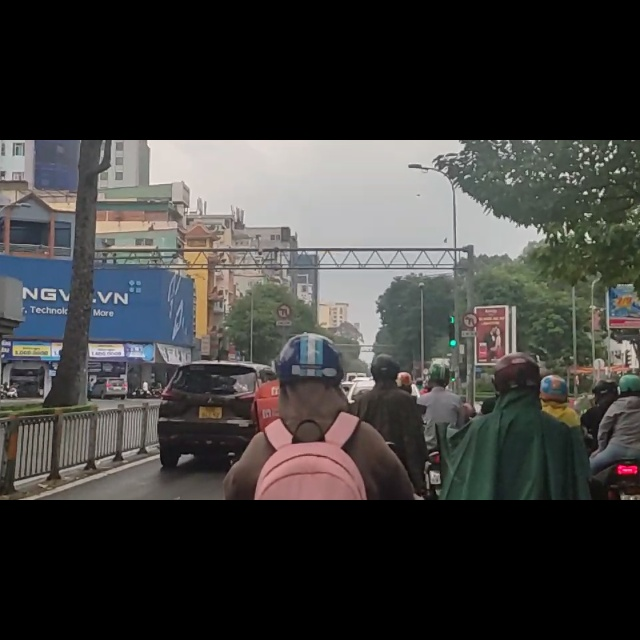bien_cam: (461, 305, 479, 337), (276, 289, 293, 320)
